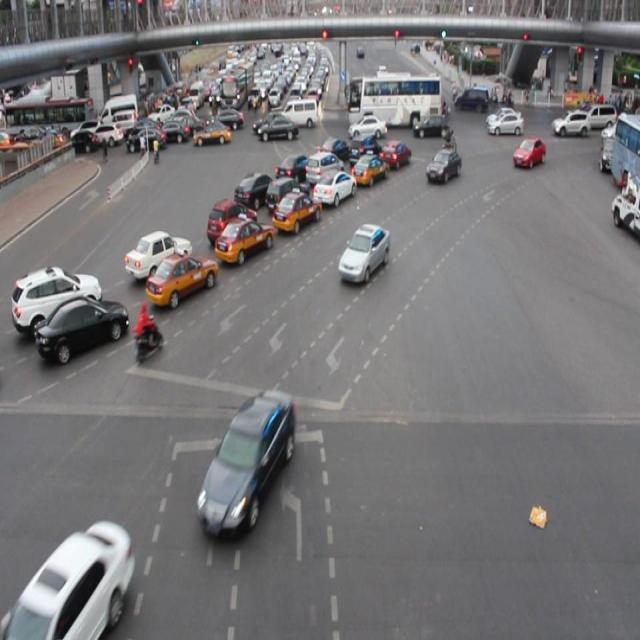car: (13, 530, 131, 640), (198, 396, 290, 533), (12, 264, 104, 335), (34, 296, 132, 362), (147, 250, 218, 307), (124, 229, 192, 282), (216, 216, 274, 266), (338, 225, 390, 280), (206, 198, 258, 246), (272, 187, 322, 233), (265, 172, 311, 218), (312, 167, 356, 210), (234, 172, 276, 210), (304, 148, 344, 186), (425, 146, 462, 187), (275, 152, 314, 190), (350, 151, 390, 188), (348, 130, 385, 168), (511, 134, 546, 172), (379, 137, 411, 174), (319, 134, 352, 168)
